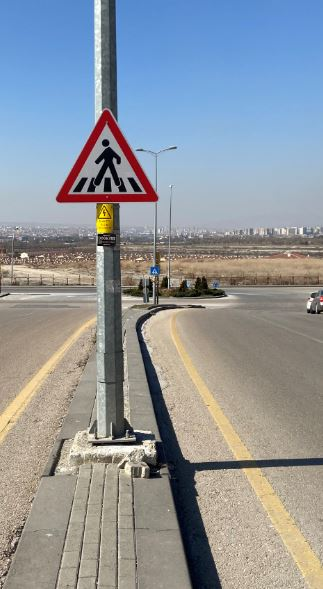Yaya Gecidi: (56, 110, 161, 203)
